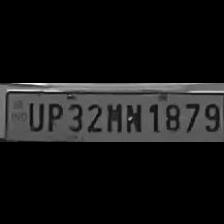1: (144, 99, 162, 134)
2: (84, 99, 103, 133)
3: (64, 98, 84, 132)
7: (180, 99, 200, 134)
8: (160, 100, 182, 132)
9: (200, 99, 220, 133)
M: (104, 99, 122, 134)
N: (122, 99, 144, 134)
P: (43, 99, 62, 133)
U: (23, 98, 44, 132)
